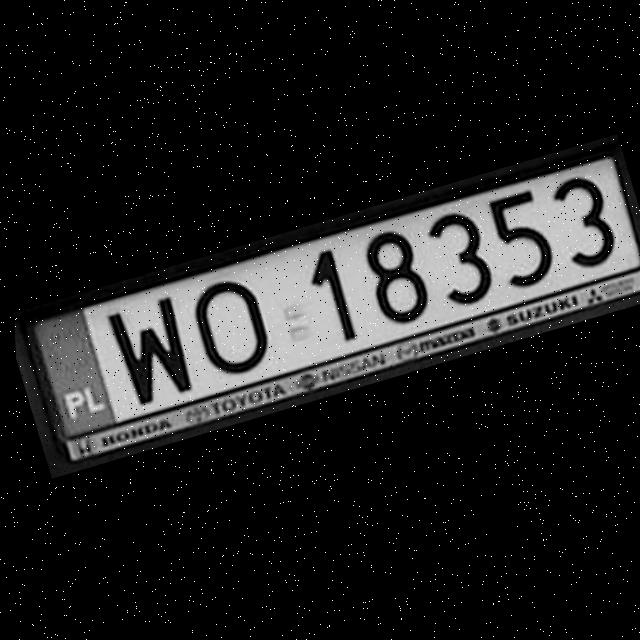license-plates: (31, 157, 640, 439)
